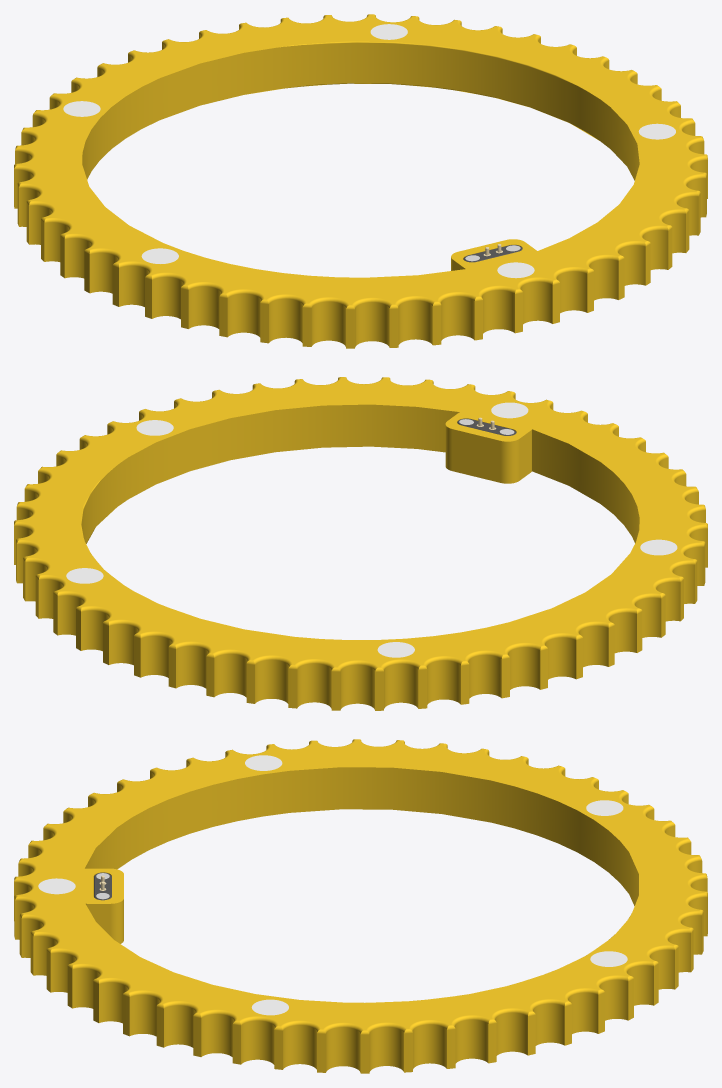
The model's file is divider.glb.
The picture shows the model from 3 angles, top to bottom: view 1: azimuth 30°, elevation 25°; view 2: azimuth 150°, elevation 25°; view 3: azimuth 270°, elevation 25°; orthographic projection.
Visible parts, largest first — view 1: Light Shade (1) (1) (1) (1) (1) (1) (1) (2) (1); view 2: Light Shade (1) (1) (1) (1) (1) (1) (1) (2) (1); view 3: Light Shade (1) (1) (1) (1) (1) (1) (1) (2) (1).
Part boxes in pixels (x1=…): Light Shade (1) (1) (1) (1) (1) (1) (1) (2) (1): x1=14, y1=14, x2=707, y2=348; Light Shade (1) (1) (1) (1) (1) (1) (1) (2) (1): x1=14, y1=377, x2=707, y2=710; Light Shade (1) (1) (1) (1) (1) (1) (1) (2) (1): x1=14, y1=739, x2=707, y2=1073.
Size of the model in its own units: 0.1524 by 0.012 by 0.1523.
